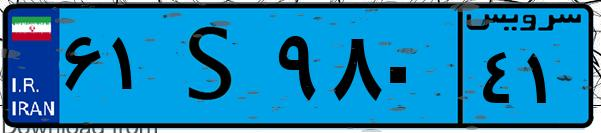0: (385, 28, 445, 110)
1: (525, 38, 570, 115), (110, 28, 158, 98)
4: (475, 38, 525, 113)
6: (57, 26, 110, 100)
8: (330, 28, 385, 110)
9: (270, 28, 330, 110)
S: (158, 12, 270, 120)
